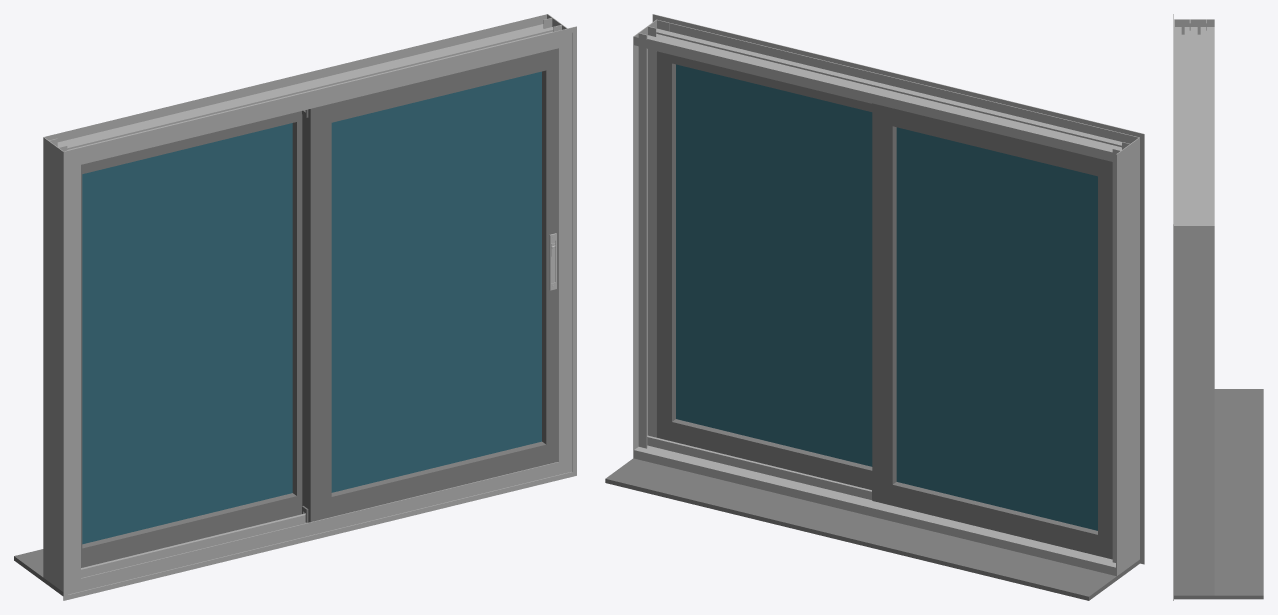
File: basewindow.fbx
3 renders of one model, left to right at view 1: azimuth 30°, elevation 25°; view 2: azimuth 150°, elevation 25°; view 3: azimuth 270°, elevation 25°, orthographic. The views are drawn at different scales.
Visible parts, largest first — view 1: WindowFrame; view 2: WindowFrame; view 3: WindowFrame.
Boxes of the visible parts, x1,y1,x2,y2 form: WindowFrame: (14, 14, 576, 600); WindowFrame: (605, 14, 1144, 600); WindowFrame: (1173, 14, 1263, 600).
Bounding box in the file's own units: 122 × 102 × 22.2.
